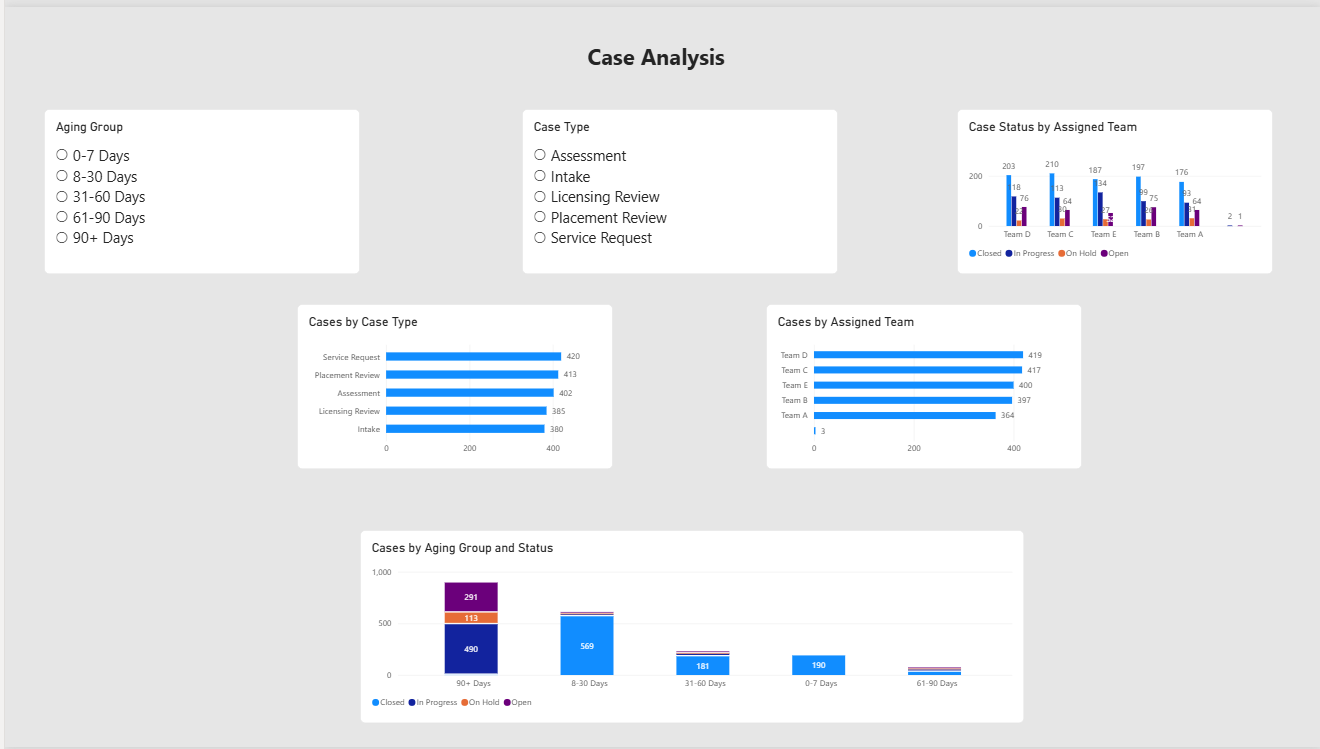

The page's visual inventory and layout, read from the dashboard file:
{"tool":"powerbi","page":{"name":"Case Management Analysis","canvas":[1920,1080],"ordinal":1},"visuals":[{"type":"clusteredBarChart","title":"Cases by Case Type","fields":{"Category":["case_management_sample.Case_Type"],"Y":["CountNonNull(case_management_sample.Case_ID)"]},"box":[426,433.3,461,240.7],"z":0},{"type":"clusteredBarChart","title":"Cases by Assigned Team","fields":{"Category":["case_management_sample.Assigned_Team"],"Y":["CountNonNull(case_management_sample.Case_ID)"]},"box":[1110.3,433.3,461,240.7],"z":1},{"type":"columnChart","title":"Cases by Aging Group and Status","fields":{"Category":["case_management_sample.AgingGroup"],"Series":["case_management_sample.Status"],"Y":["CountNonNull(case_management_sample.Case_ID)"]},"box":[517.9,763,968.8,281.6],"z":2},{"type":"listSlicer","title":"Aging Group","fields":{"Values":["case_management_sample.AgingGroup"]},"box":[56.9,148.8,461,240.7],"z":3},{"type":"listSlicer","title":"Case Type","fields":{"Values":["case_management_sample.Case_Type"]},"box":[754.3,148.8,461,240.7],"z":4},{"type":"clusteredColumnChart","title":"Case Status by Assigned Team ","fields":{"Category":["case_management_sample.Assigned_Team"],"Series":["case_management_sample.Status"],"Y":["CountNonNull(case_management_sample.Case_ID)"]},"box":[1388.9,148.8,461,240.7],"z":5},{"type":"textbox","box":[0,50,1900,51],"z":6}]}

Visuals, with their boxes in screenshot pixels (x1, y1, x2, y2), scaled from the page's 1920x1080 canvas onto the 1320x749 screenshot:
"Cases by Case Type" clusteredBarChart: l=293, t=301, r=610, b=467
"Cases by Assigned Team" clusteredBarChart: l=763, t=301, r=1080, b=467
"Cases by Aging Group and Status" columnChart: l=356, t=529, r=1022, b=724
"Aging Group" listSlicer: l=39, t=103, r=356, b=270
"Case Type" listSlicer: l=519, t=103, r=836, b=270
"Case Status by Assigned Team " clusteredColumnChart: l=955, t=103, r=1272, b=270
textbox: l=0, t=35, r=1306, b=70
